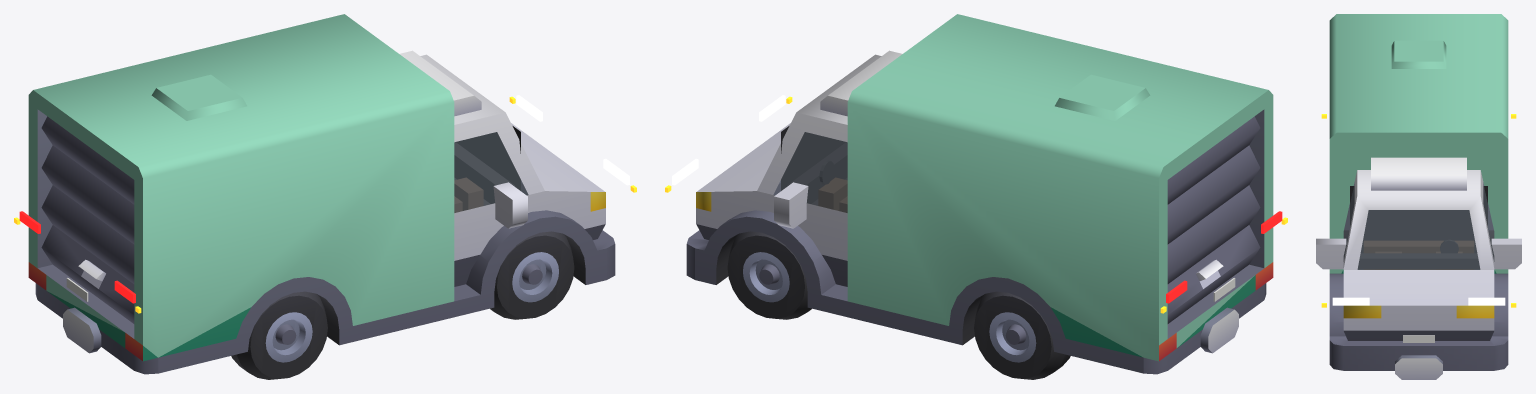
The model's file is veh_truck.glb.
3 views of the same model, side by side, from view 1: azimuth 30°, elevation 25°; view 2: azimuth 150°, elevation 25°; view 3: azimuth 270°, elevation 25° (orthographic). The views are drawn at different scales.
Parts seen in each view (by area): view 1: body, trim_door, wheel_rr, wheel_fr, interior, interior_dash, interior_seat_-1, light_head, light_tail; view 2: body, trim_door, wheel_rl, wheel_fl, interior, interior_dash, interior_seat_1, light_head, light_tail; view 3: body, interior, interior_dash, interior_bench, light_head, plate_front, interior_steer.
Part boxes in pixels (x1,y1,x2,y2): body: (28, 14, 615, 374); trim_door: (41, 116, 134, 323); wheel_rr: (231, 291, 327, 379); wheel_fr: (490, 231, 574, 319); interior: (454, 126, 520, 205); interior_dash: (454, 142, 515, 197); interior_seat_-1: (454, 177, 483, 210); light_head: (516, 95, 629, 185); light_tail: (19, 211, 135, 303); body: (686, 14, 1273, 374); trim_door: (1167, 116, 1260, 323); wheel_rl: (974, 291, 1070, 379); wheel_fl: (727, 231, 811, 319); interior: (781, 126, 847, 205); interior_dash: (786, 142, 847, 197); interior_seat_1: (818, 177, 847, 210); light_head: (672, 95, 785, 185); light_tail: (1166, 211, 1282, 303); body: (1316, 14, 1521, 379); interior: (1350, 186, 1487, 269); interior_dash: (1358, 253, 1479, 268); interior_bench: (1363, 240, 1474, 269); light_head: (1332, 297, 1505, 305); plate_front: (1403, 335, 1434, 342); interior_steer: (1440, 239, 1458, 253).
Size of the model in its own units: 7.05 by 3.55 by 3.23.
Materials: 9 (1 with a texture image).
